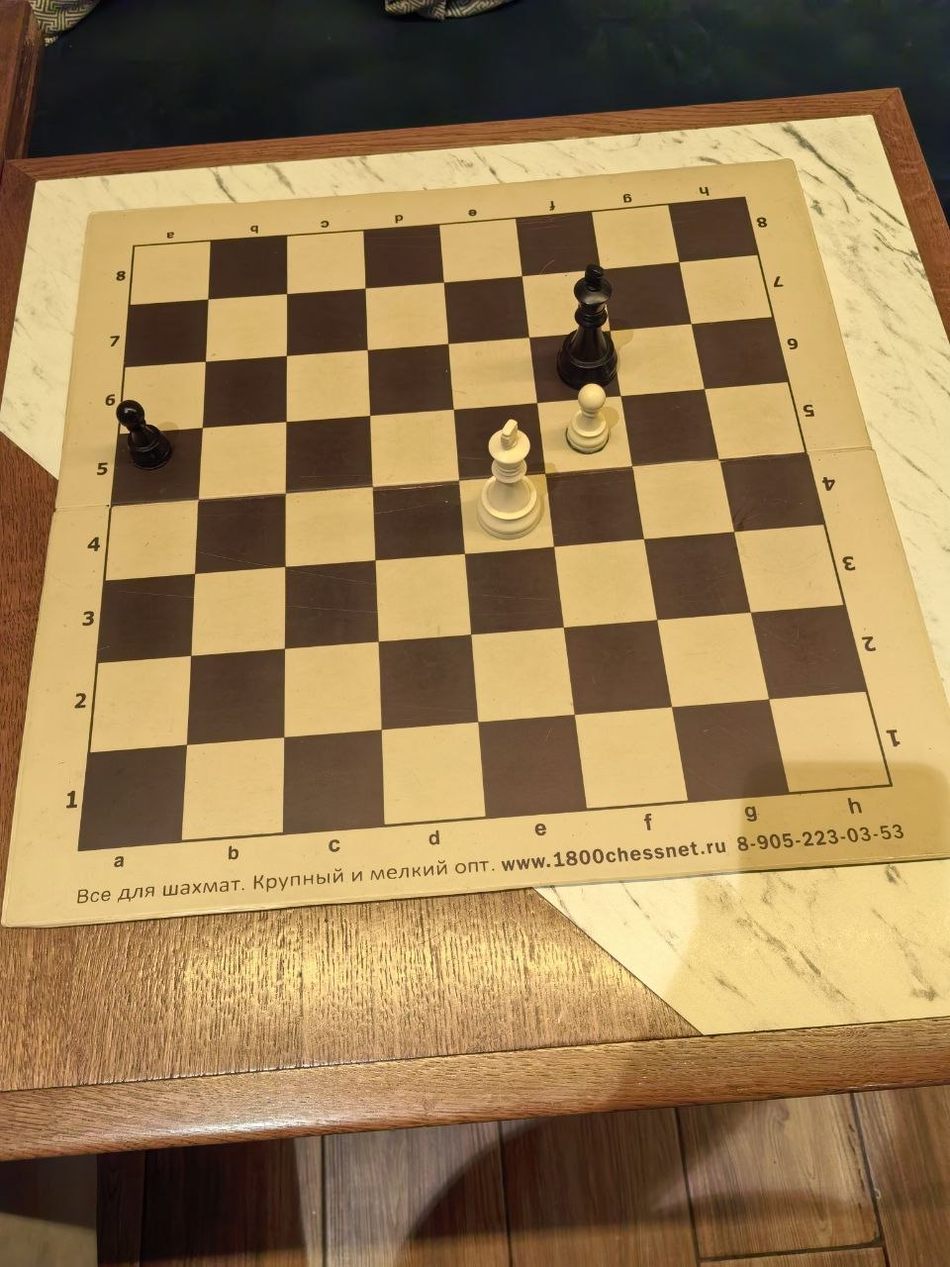black-bishop: (475, 634, 594, 792)
black-rook: (594, 475, 712, 634)
white-bishop: (594, 317, 712, 475)
white-rook: (0, 475, 119, 634)
